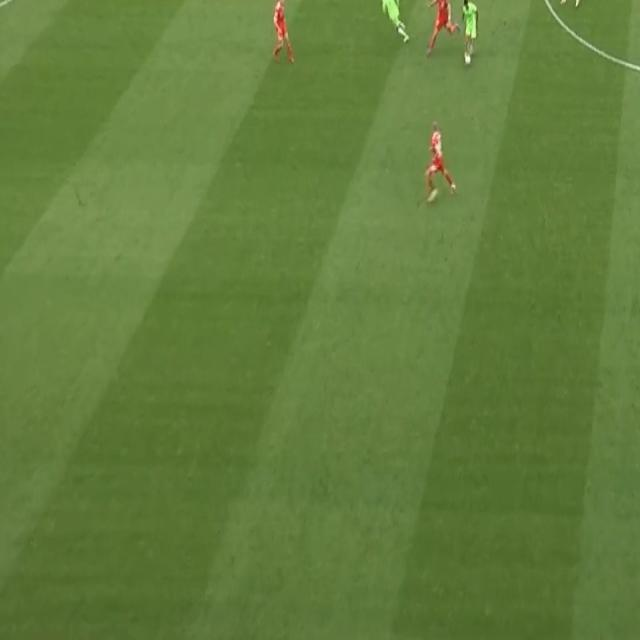ball: (464, 52, 472, 67)
